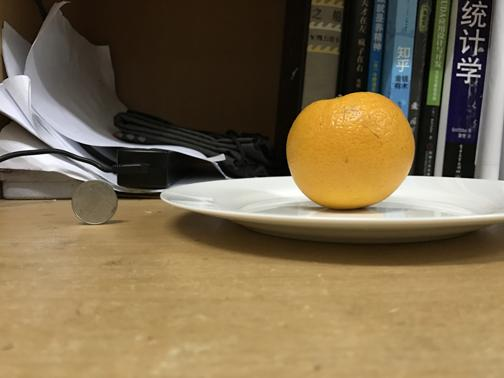coin: (71, 179, 118, 224)
orange: (285, 92, 415, 210)
